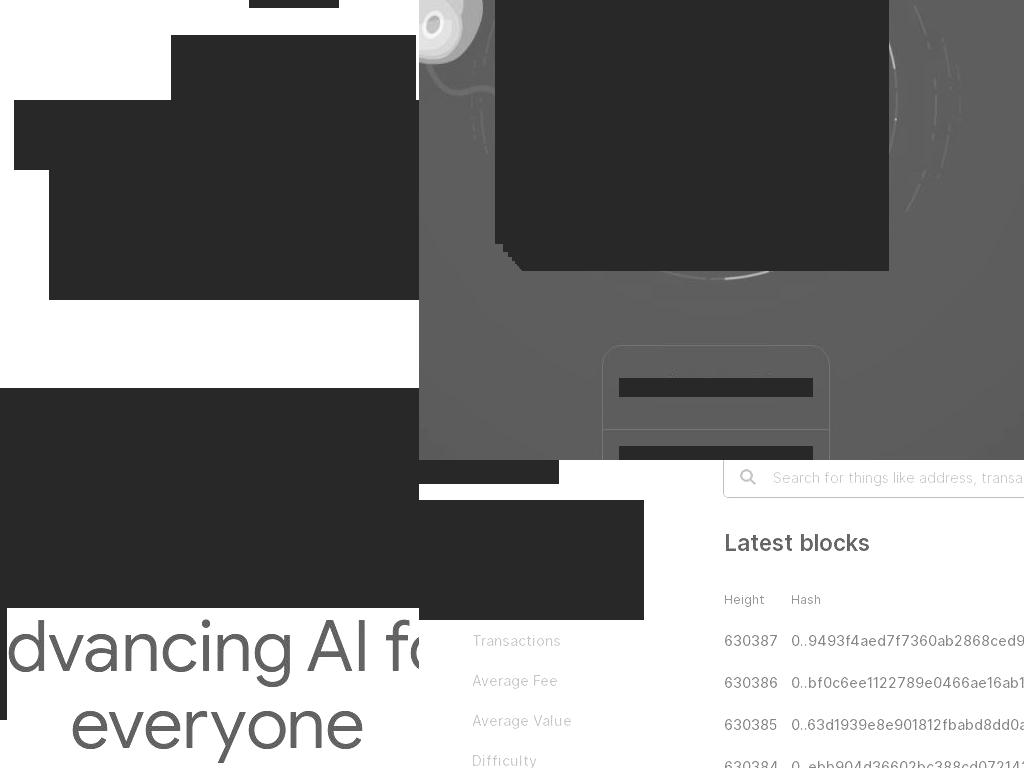button: (419, 500, 644, 580), (419, 580, 644, 620), (419, 620, 644, 660), (419, 660, 644, 700), (419, 700, 644, 740), (419, 740, 644, 768), (791, 632, 1024, 649), (791, 674, 1024, 691), (791, 716, 1024, 733), (791, 758, 1024, 768), (724, 632, 792, 649), (724, 674, 792, 691), (724, 716, 792, 733), (724, 758, 792, 768)
field: (724, 460, 1024, 497)
heading: (49, 165, 419, 300), (14, 100, 419, 170), (171, 35, 416, 105)
image: (522, 0, 889, 271), (521, 0, 888, 270), (520, 0, 887, 269), (519, 0, 886, 268), (517, 0, 884, 266), (515, 0, 882, 264), (512, 0, 879, 261), (508, 0, 875, 257), (503, 0, 870, 252), (495, 0, 862, 244), (0, 460, 419, 608), (0, 388, 419, 460), (419, 0, 523, 118), (619, 378, 813, 397), (419, 520, 456, 560), (740, 469, 756, 485)
text: (724, 529, 870, 556), (419, 460, 559, 484), (619, 446, 813, 460), (472, 591, 592, 609), (472, 631, 592, 649), (472, 671, 592, 689), (472, 711, 592, 729), (472, 751, 592, 768), (468, 543, 536, 561), (468, 519, 524, 540), (724, 592, 766, 607), (791, 592, 822, 607)
